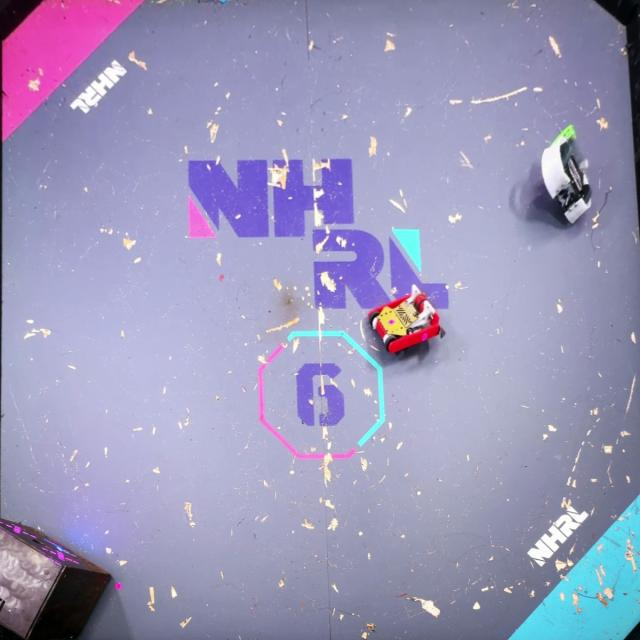housebot: (0, 514, 112, 640)
robot: (367, 284, 443, 359), (539, 123, 593, 225)
